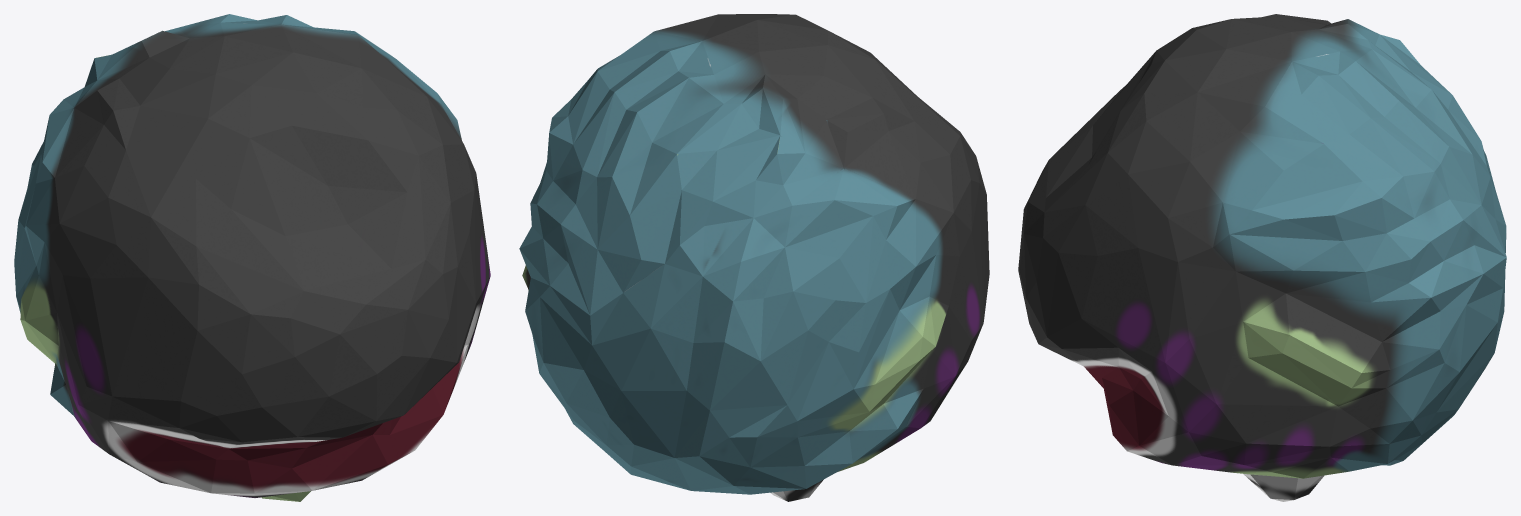
File: bearface.dae
3 renders of one model, left to right at view 1: azimuth 30°, elevation 25°; view 2: azimuth 150°, elevation 25°; view 3: azimuth 270°, elevation 25°, orthographic. The views are drawn at different scales.
Parts seen in each view (by area): view 1: Sphere_002; view 2: Sphere_002; view 3: Sphere_002.
Boxes of the visible parts, x1,y1,x2,y2 form: Sphere_002: [14, 14, 490, 501]; Sphere_002: [519, 14, 989, 501]; Sphere_002: [1018, 14, 1506, 501].
Size of the model in its own units: 1.3 by 1.39 by 1.34.
